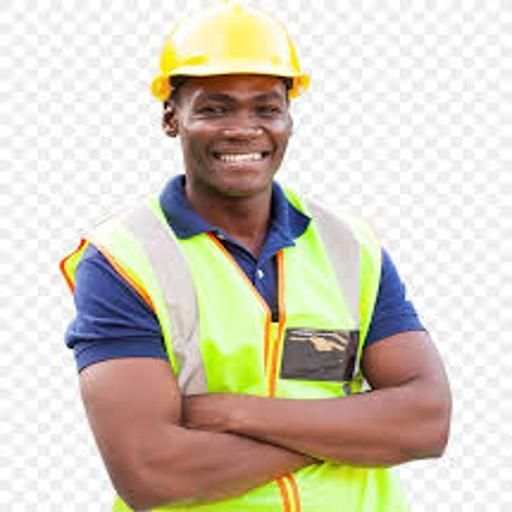Hard_hat: (146, 1, 345, 113)
Humans: (41, 97, 469, 512)
Vest: (55, 159, 401, 512)
